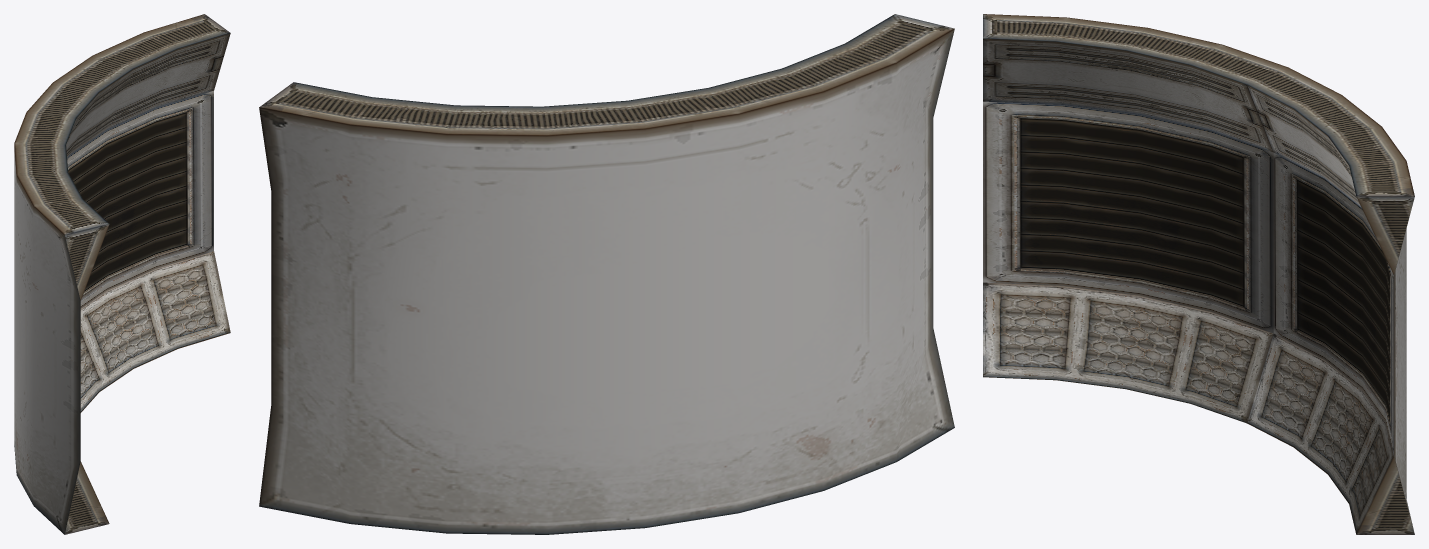
Rendered from scifi_wall_curve2_2.FBX.
3 renders of one model, left to right at view 1: azimuth 30°, elevation 25°; view 2: azimuth 150°, elevation 25°; view 3: azimuth 270°, elevation 25°, orthographic. The views are drawn at different scales.
Visible parts, largest first — view 1: Plane117; view 2: Plane117; view 3: Plane117.
Part boxes in pixels (x1,y1,x2,y2): Plane117: [14, 14, 230, 534]; Plane117: [259, 14, 954, 534]; Plane117: [983, 14, 1414, 534].
Size of the model in its own units: 294 by 254 by 294.
